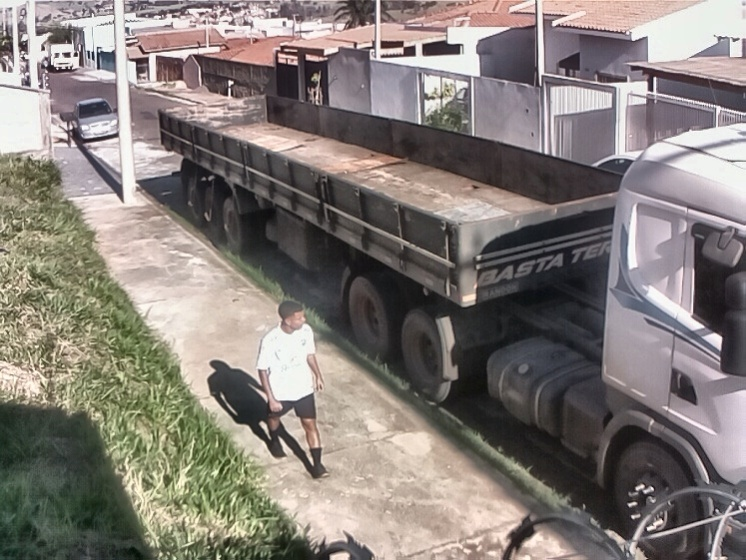person: (255, 298, 334, 479)
